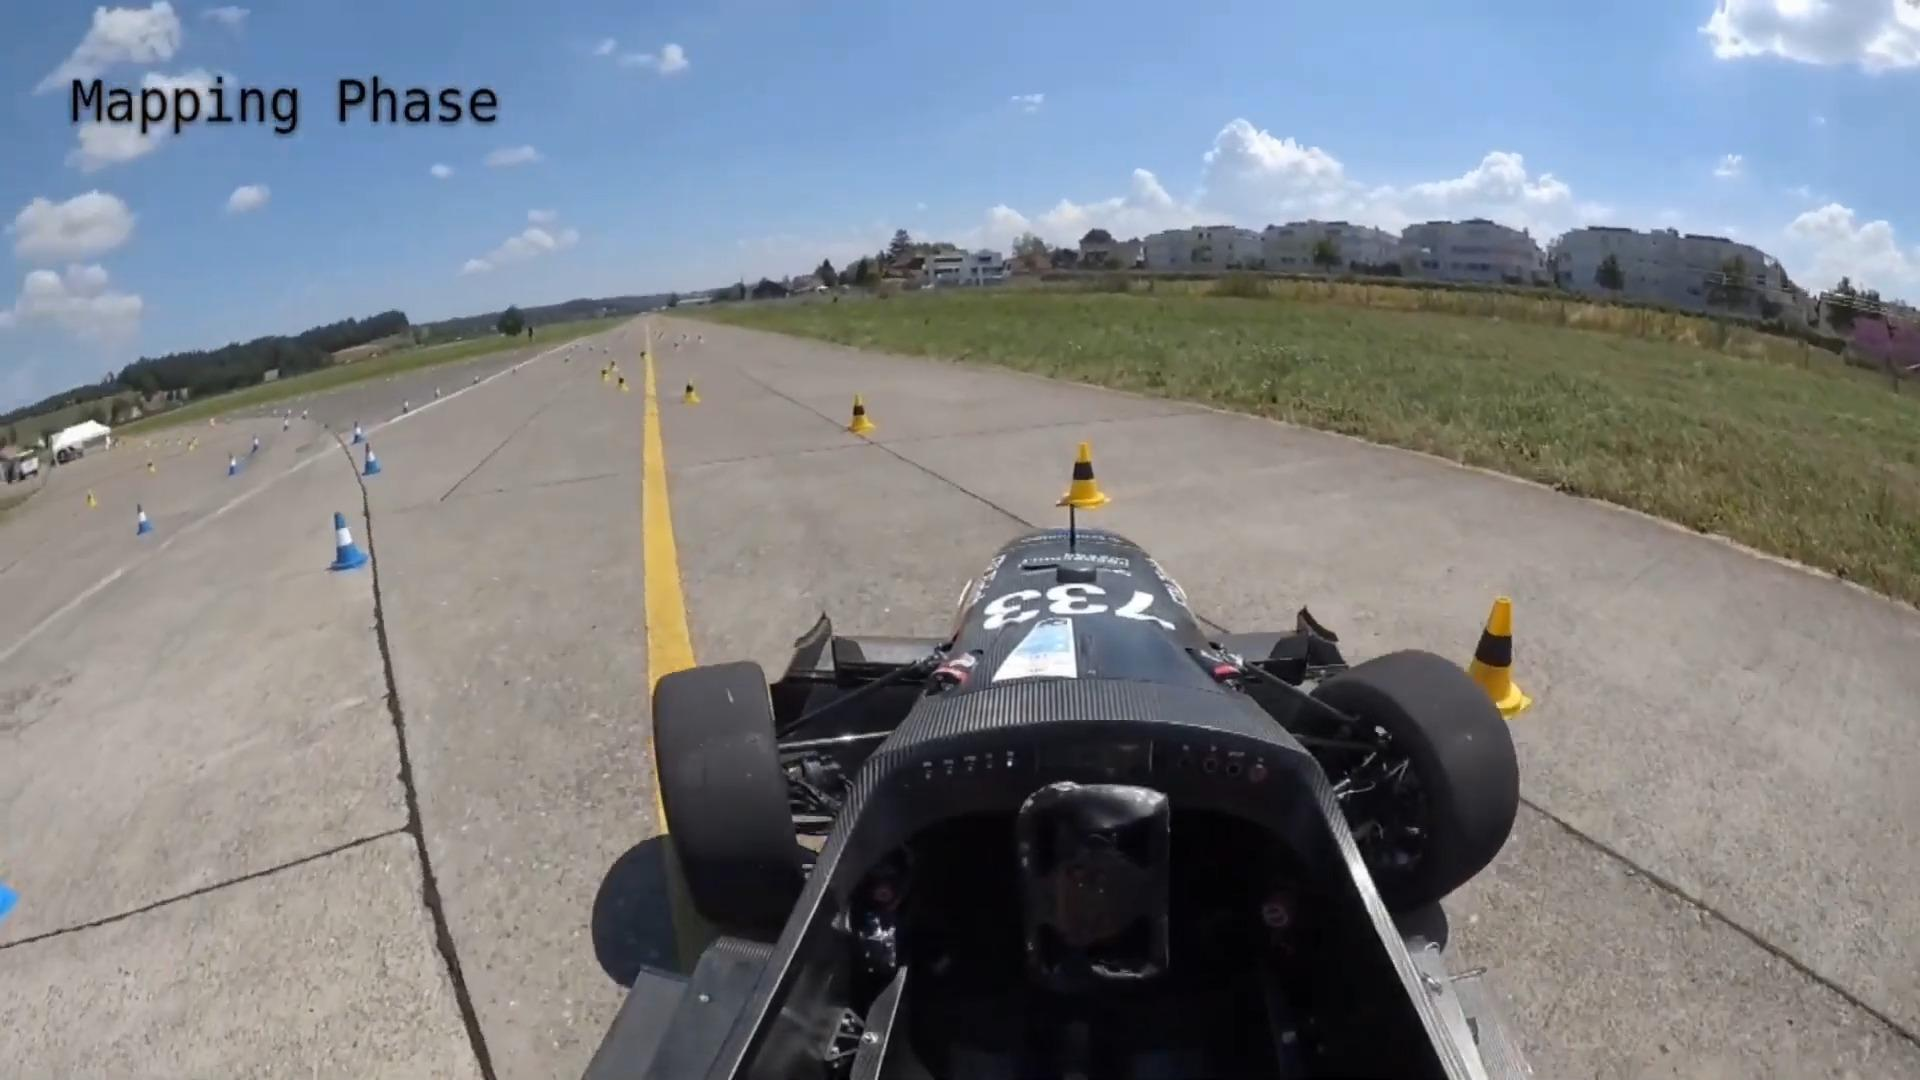blue_cone: (0, 843, 40, 932), (327, 512, 371, 574), (135, 501, 156, 539), (360, 440, 382, 476), (225, 452, 244, 477), (352, 419, 365, 443), (252, 434, 262, 458)
yellow_cone: (1443, 596, 1538, 727), (1056, 438, 1118, 516), (845, 392, 876, 434), (680, 377, 700, 406), (615, 373, 629, 393), (600, 367, 611, 384)
